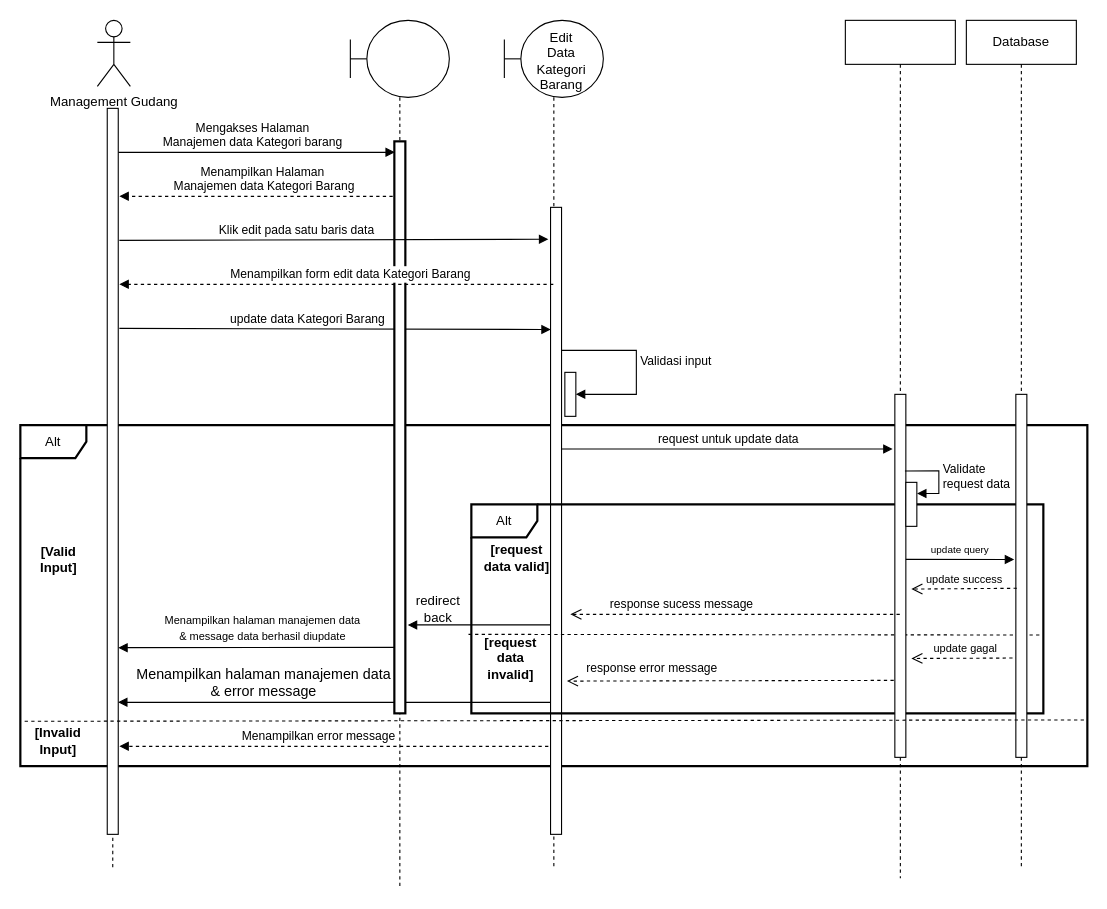
This 1107x909 diagram has some shape labels left out. Each missing label, with the box of its shape:
Controller Kategori Barang: (844, 19, 955, 878)
Manajemen data kategori Barang: (349, 19, 449, 889)
